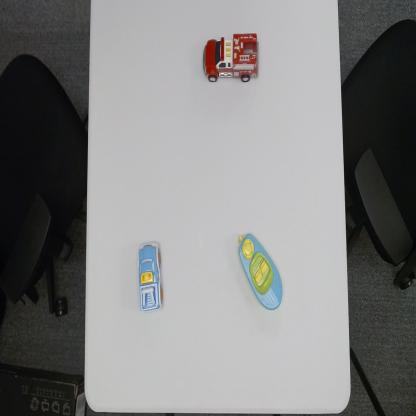Boat: (237, 229, 284, 312)
Car: (137, 241, 164, 315)
Firetruck: (201, 30, 261, 85)
